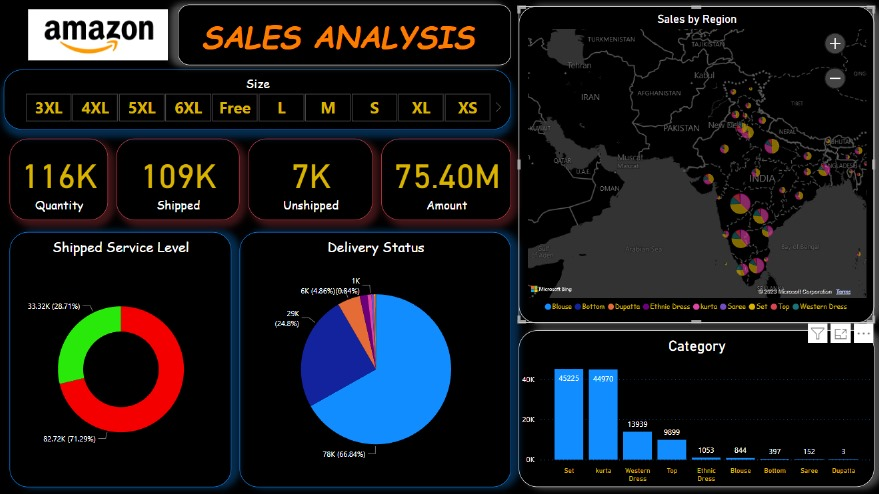

Layout of this report page (visuals, bound fields, positions):
{"tool":"powerbi","page":{"name":"Page 1","canvas":[1420,800],"ordinal":0},"visuals":[{"type":"slicer","title":"Size","fields":{"Values":["Amazon Sale Report.Size"]},"box":[9.4,112.6,816.1,96.5],"z":0},{"type":"textbox","box":[289.4,8,536,97.8],"z":1000},{"type":"columnChart","title":"Category","fields":{"Category":["Amazon Sale Report.Category"],"Y":["Sum(Amazon Sale Report.Quantity)"]},"box":[837.5,532,572.2,251.9],"z":2000},{"type":"card","fields":{"Values":["Sum(Amazon Sale Report.Quantity)"]},"box":[18.8,223.8,158.1,131.3],"z":3000},{"type":"map","title":"Sales by Region","fields":{"Category":["Amazon Sale Report.ship-state"],"Size":["Sum(Amazon Sale Report.Quantity)"],"Series":["Amazon Sale Report.Category"]},"box":[837.5,10.7,572.2,509.2],"z":4000},{"type":"card","fields":{"Values":["Sum(Amazon Sale Report.Shipped)"]},"box":[190.3,223.8,198.3,131.3],"z":5000},{"type":"card","fields":{"Values":["Sum(Amazon Sale Report.Unshipped)"]},"box":[402,223.8,201,131.3],"z":6000},{"type":"card","fields":{"Values":["Sum(Amazon Sale Report.Amount)"]},"box":[616.4,223.8,209,131.3],"z":7000},{"type":"pieChart","title":"Delivery Status","fields":{"Category":["Amazon Sale Report.Status"],"Y":["Sum(Amazon Sale Report.Quantity)"]},"box":[388.6,373.9,436.9,410.1],"z":8000},{"type":"donutChart","title":"Shipped Service Level","fields":{"Category":["Amazon Sale Report.ship-service-level"],"Y":["CountNonNull(Amazon Sale Report.ship-service-level)"]},"box":[18.8,373.9,356.4,410.1],"z":8001},{"type":"image","box":[9.4,10.7,302.8,92.5],"z":8002}]}

Visuals, with their boxes in screenshot pixels (x1, y1, x2, y2), scaled from the page's 1420x800 canvas onto the 879x494 screenshot:
"Size" slicer: region(6, 70, 511, 129)
textbox: region(179, 5, 511, 65)
"Category" columnChart: region(518, 329, 873, 484)
card - Sum(Amazon Sale Report.Quantity): region(12, 138, 110, 219)
"Sales by Region" map: region(518, 7, 873, 321)
card - Sum(Amazon Sale Report.Shipped): region(118, 138, 241, 219)
card - Sum(Amazon Sale Report.Unshipped): region(249, 138, 373, 219)
card - Sum(Amazon Sale Report.Amount): region(382, 138, 511, 219)
"Delivery Status" pieChart: region(241, 231, 511, 484)
"Shipped Service Level" donutChart: region(12, 231, 232, 484)
image: region(6, 7, 193, 64)
